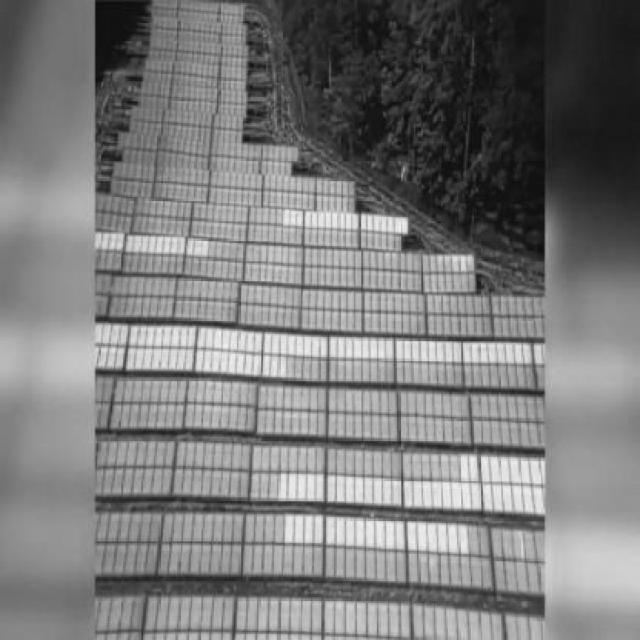diode: (524, 453, 536, 481), (440, 479, 452, 507), (393, 479, 404, 507), (484, 453, 496, 478), (376, 518, 386, 547), (514, 454, 526, 478), (504, 454, 516, 478), (494, 454, 506, 478), (364, 519, 374, 547), (414, 522, 424, 550), (530, 485, 541, 510), (313, 516, 322, 546), (334, 518, 344, 545), (352, 519, 362, 546), (382, 522, 392, 549), (438, 525, 448, 552), (466, 452, 477, 476), (404, 478, 413, 507), (422, 478, 431, 507), (426, 523, 436, 549), (394, 519, 403, 547), (369, 475, 378, 503), (290, 515, 299, 542), (376, 476, 384, 506), (386, 476, 394, 506), (344, 520, 353, 546), (459, 527, 468, 553), (290, 473, 299, 499), (342, 476, 351, 502), (490, 483, 499, 509), (439, 478, 447, 507), (476, 453, 486, 476), (508, 337, 518, 360), (317, 475, 326, 500), (333, 476, 342, 501), (361, 476, 370, 501), (490, 335, 499, 360), (302, 515, 310, 543), (405, 522, 413, 550), (449, 523, 457, 551), (282, 472, 290, 500), (537, 453, 545, 481), (508, 486, 518, 508), (438, 336, 448, 358), (372, 335, 382, 357), (274, 356, 284, 378), (132, 325, 142, 347), (307, 475, 316, 499), (352, 477, 361, 501), (470, 479, 478, 506), (462, 478, 469, 508), (325, 475, 333, 500), (364, 335, 373, 357), (117, 350, 126, 372), (520, 528, 526, 560), (299, 474, 307, 498), (456, 451, 464, 475), (338, 335, 348, 354), (451, 479, 458, 506), (520, 487, 529, 508), (484, 484, 491, 511), (173, 327, 182, 348), (116, 328, 125, 349), (103, 328, 112, 349), (168, 351, 177, 372), (140, 328, 149, 349), (283, 514, 289, 544), (256, 358, 266, 376), (134, 352, 144, 370), (126, 352, 136, 370), (530, 340, 538, 362), (177, 348, 185, 370), (160, 350, 168, 372), (142, 350, 150, 372), (338, 212, 347, 231), (214, 332, 223, 351), (264, 358, 273, 377), (184, 352, 193, 371), (326, 515, 332, 543), (413, 477, 419, 505), (501, 482, 507, 510), (430, 337, 438, 358), (190, 328, 198, 349), (246, 354, 254, 375), (123, 327, 131, 348), (448, 340, 457, 358), (258, 335, 267, 353), (207, 335, 216, 353), (198, 330, 207, 348), (151, 350, 160, 368), (105, 352, 114, 370), (114, 234, 123, 252), (298, 335, 305, 357), (238, 355, 245, 377), (95, 348, 102, 370), (355, 336, 363, 355), (155, 329, 163, 348), (147, 235, 155, 254), (432, 480, 438, 505), (194, 352, 201, 373), (386, 215, 394, 233), (345, 212, 353, 230), (329, 212, 338, 228), (520, 342, 528, 360), (500, 338, 506, 362), (423, 338, 431, 356), (282, 337, 290, 355), (273, 338, 282, 354), (164, 330, 173, 345), (161, 237, 170, 252), (228, 355, 235, 374), (202, 353, 209, 372), (108, 233, 115, 252), (466, 338, 472, 360), (540, 338, 546, 360), (388, 339, 394, 361), (348, 336, 354, 358), (252, 333, 258, 355), (241, 332, 247, 354), (332, 336, 338, 358), (233, 336, 241, 352), (437, 253, 445, 269), (483, 337, 489, 358), (382, 338, 389, 356), (266, 334, 272, 355), (185, 240, 192, 258), (458, 339, 464, 359), (101, 233, 108, 250), (292, 335, 298, 354), (224, 333, 230, 352), (182, 329, 188, 348), (97, 329, 103, 348), (220, 355, 226, 374), (156, 236, 162, 255), (126, 235, 132, 254), (310, 336, 316, 355), (393, 218, 401, 232), (302, 212, 309, 228), (289, 212, 297, 226), (149, 329, 154, 351), (380, 214, 386, 232), (373, 214, 379, 232), (474, 338, 480, 356), (318, 337, 324, 355), (306, 338, 312, 356), (398, 340, 404, 358), (212, 355, 218, 373), (402, 218, 408, 236), (202, 240, 209, 255), (193, 239, 199, 256), (141, 236, 147, 253), (324, 213, 330, 229), (177, 239, 183, 255), (172, 238, 178, 254), (416, 339, 421, 358), (354, 214, 360, 229), (399, 217, 404, 235), (406, 340, 412, 355), (136, 237, 142, 252), (541, 484, 544, 511), (446, 253, 451, 269), (282, 211, 288, 224), (360, 215, 365, 230), (311, 213, 317, 225), (327, 338, 331, 356), (97, 234, 101, 251), (319, 211, 323, 227), (368, 217, 372, 231), (298, 214, 302, 228)
hotspot: (452, 251, 457, 260)
